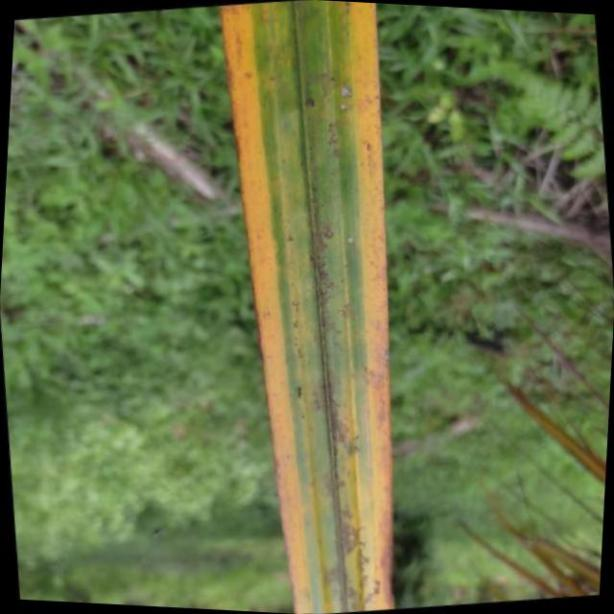Megnesium: (221, 0, 395, 614)
